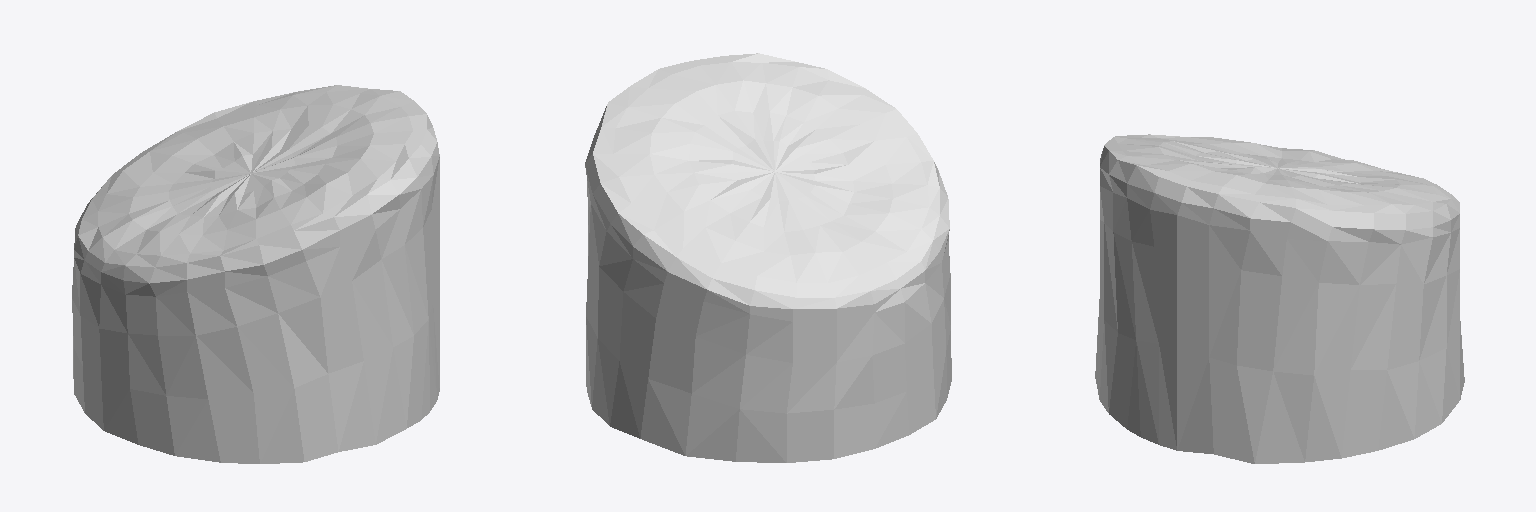
File: right_b_button.obj
3 renders of one model, left to right at view 1: azimuth 30°, elevation 25°; view 2: azimuth 150°, elevation 25°; view 3: azimuth 270°, elevation 25°, orthographic.
Visible parts, largest first — view 1: right_b_button; view 2: right_b_button; view 3: right_b_button.
Part boxes in pixels (x1,y1,x2,y2): right_b_button: (72,85,439,463); right_b_button: (585,53,951,462); right_b_button: (1095,134,1464,463).
Size of the model in its own units: 0.0081 by 0.0063 by 0.0081.